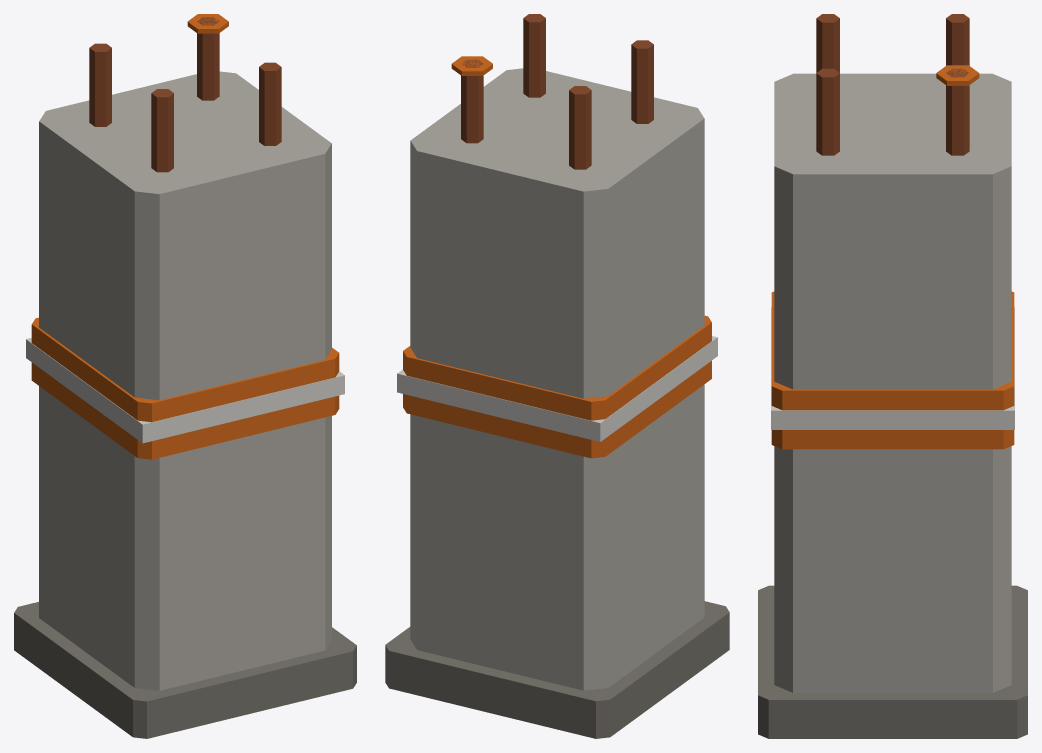
Rendered from site-post.glb.
3 renders of one model, left to right at view 1: azimuth 30°, elevation 25°; view 2: azimuth 150°, elevation 25°; view 3: azimuth 270°, elevation 25°, orthographic. The views are drawn at different scales.
Visible parts, largest first — view 1: site-post; view 2: site-post; view 3: site-post.
Part boxes in pixels (box(x1,y1,x2,y2)): site-post: box(14, 14, 356, 738); site-post: box(385, 14, 729, 738); site-post: box(758, 14, 1027, 738).
Bounding box in the file's own units: 0.5 × 1.3 × 0.5.
